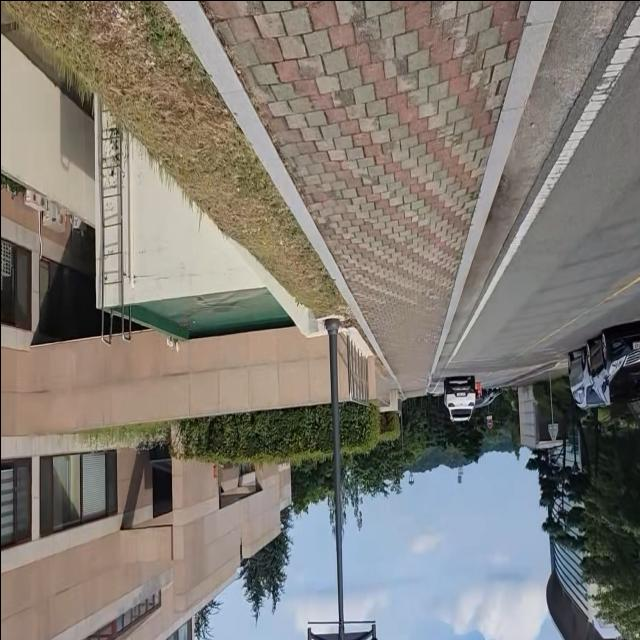obstacle: (299, 321, 379, 640), (558, 320, 640, 412), (438, 373, 477, 430)
road: (431, 0, 640, 383)
sidewalk: (168, 0, 553, 389)
